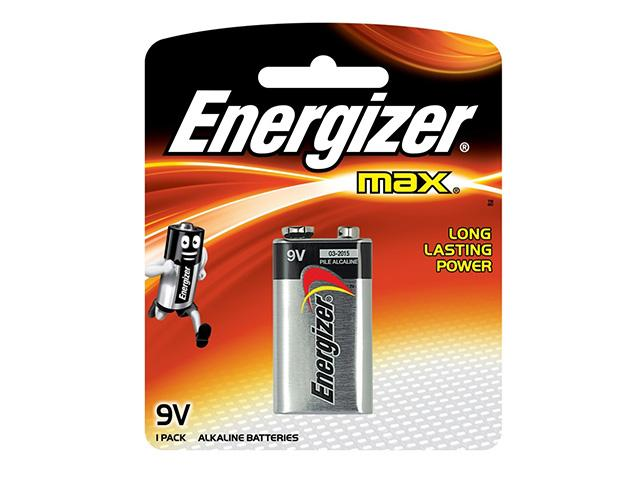9V Battery: (272, 226, 374, 416)
